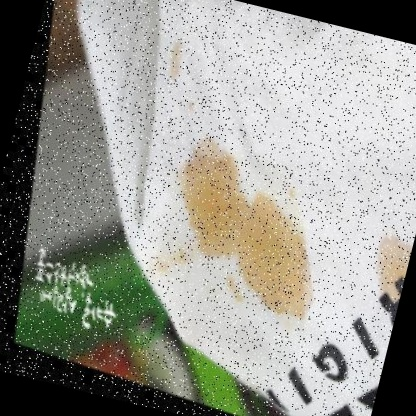coffee: (174, 148, 258, 259), (235, 209, 308, 294)
